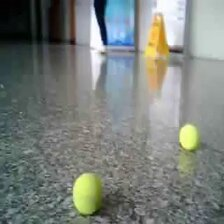tennis: (72, 171, 107, 214), (179, 123, 200, 150)
